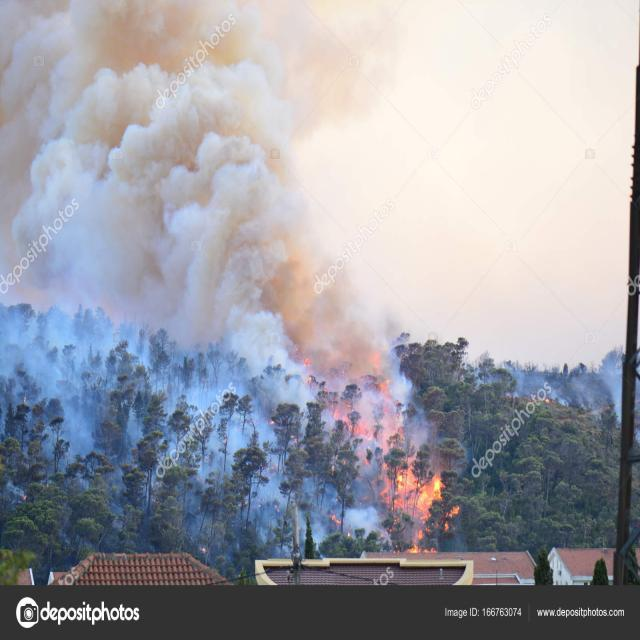Fire: (306, 350, 453, 545)
Smoke: (21, 34, 409, 380)
